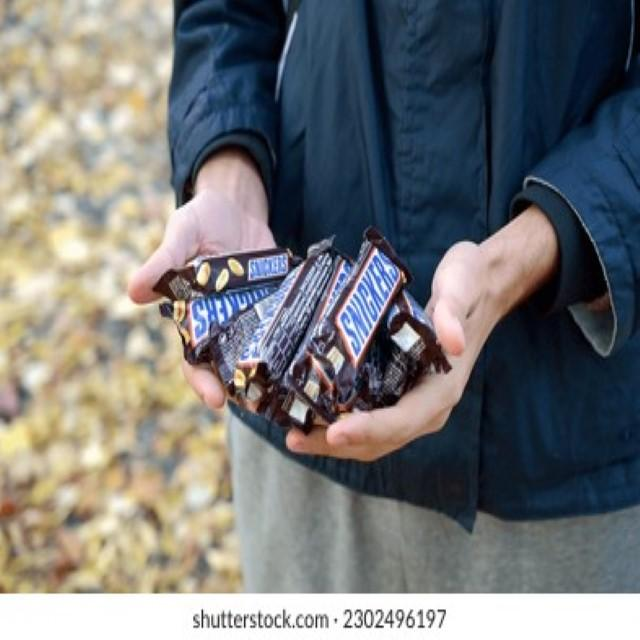snickers_chocolate: (305, 240, 410, 383), (244, 262, 344, 400), (177, 253, 305, 307), (172, 302, 277, 360)
